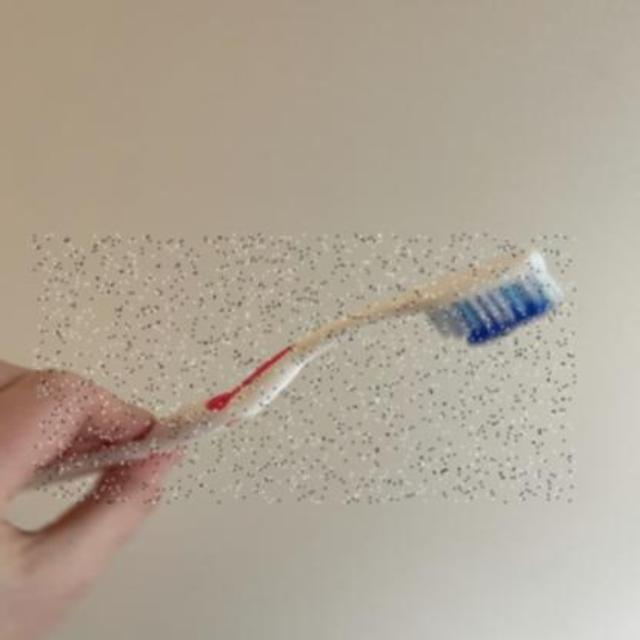toothbrush: (34, 233, 576, 502)
